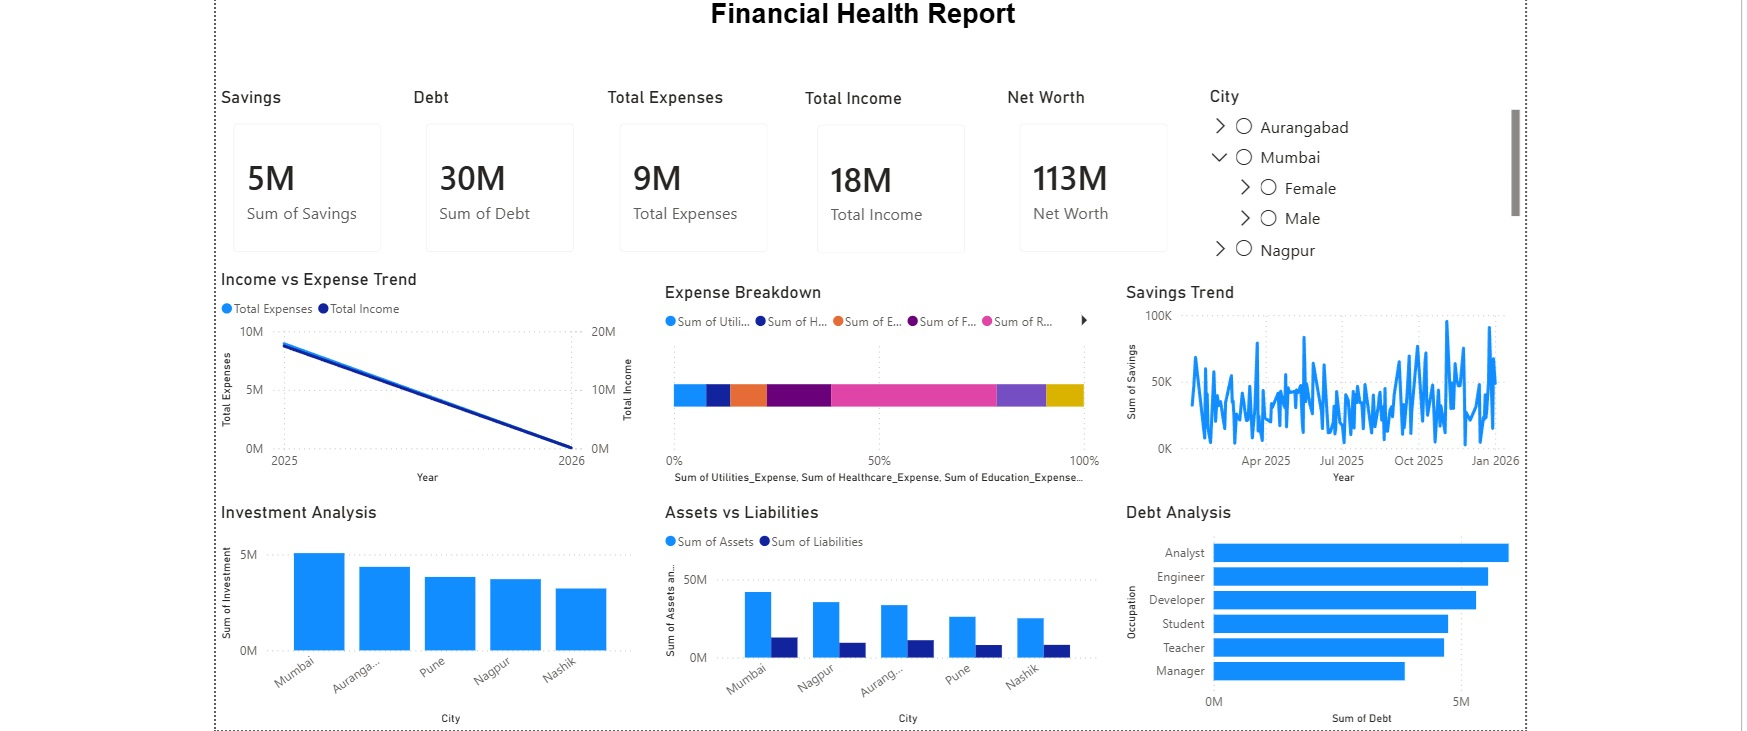

Layout of this report page (visuals, bound fields, positions):
{"tool":"powerbi","page":{"name":"Page 1","canvas":[1280,720],"ordinal":0},"visuals":[{"type":"lineChart","title":"Income vs Expense Trend","fields":{"Category":["Financial_Health_Data.Date.Variation.Date Hierarchy.Year","Financial_Health_Data.Date.Variation.Date Hierarchy.Quarter","Financial_Health_Data.Date.Variation.Date Hierarchy.Month","Financial_Health_Data.Date.Variation.Date Hierarchy.Day"],"Y":["Financial_Health_Data.Total Expenses"],"Y2":["Financial_Health_Data.Total Income"]},"box":[0,269,414.4,215.4],"z":0},{"type":"cardVisual","title":"Total Income ","fields":{"Data":["Financial_Health_Data.Total Income"]},"box":[571.1,91.7,179.8,179.8],"z":1000},{"type":"cardVisual","title":"Total Expenses","fields":{"Data":["Financial_Health_Data.Total Expenses"]},"box":[377.9,90.5,179.8,179.8],"z":2000},{"type":"cardVisual","title":"Net Worth","fields":{"Data":["Financial_Health_Data.Net Worth"]},"box":[769.2,90.5,179.8,179.8],"z":3000},{"type":"cardVisual","title":"Debt","fields":{"Data":["Sum(Financial_Health_Data.Debt)"]},"box":[188.3,90.5,179.8,179.8],"z":4000},{"type":"cardVisual","title":"Savings","fields":{"Data":["Sum(Financial_Health_Data.Savings)"]},"box":[0,90.6,179.8,179.8],"z":5000},{"type":"lineChart","title":" Savings Trend","fields":{"Y":["Sum(Financial_Health_Data.Savings)"],"Category":["Financial_Health_Data.Date.Variation.Date Hierarchy.Year","Financial_Health_Data.Date.Variation.Date Hierarchy.Quarter","Financial_Health_Data.Date.Variation.Date Hierarchy.Month","Financial_Health_Data.Date.Variation.Date Hierarchy.Day"]},"box":[885.1,281.3,395.2,203.1],"z":6000},{"type":"barChart","title":"Debt Analysis","fields":{"Y":["Sum(Financial_Health_Data.Debt)"],"Category":["Financial_Health_Data.Occupation"]},"box":[885.3,496.5,395,223.8],"z":7000},{"type":"columnChart","title":"Investment Analysis","fields":{"Category":["Financial_Health_Data.City"],"Y":["Sum(Financial_Health_Data.Investment)"]},"box":[0,496.7,414.4,223.7],"z":8000},{"type":"clusteredColumnChart","title":"Assets vs Liabilities","fields":{"Category":["Financial_Health_Data.City"],"Y":["Sum(Financial_Health_Data.Assets)","Sum(Financial_Health_Data.Liabilities)"]},"box":[433.6,496.7,435,223.7],"z":9000},{"type":"listSlicer","fields":{"Values":["Financial_Health_Data.City","Financial_Health_Data.Gender","Financial_Health_Data.Date.Variation.Date Hierarchy.Year","Financial_Health_Data.Date.Variation.Date Hierarchy.Month","Financial_Health_Data.Occupation"]},"box":[967.3,89.3,313,177.3],"z":10000},{"type":"hundredPercentStackedBarChart","title":"Expense Breakdown","fields":{"Y":["Sum(Financial_Health_Data.Utilities_Expense)","Sum(Financial_Health_Data.Healthcare_Expense)","Sum(Financial_Health_Data.Education_Expense)","Sum(Financial_Health_Data.Food_Expense)","Sum(Financial_Health_Data.Rent_Expense)","Sum(Financial_Health_Data.Shopping_Expense)","Sum(Financial_Health_Data.Travel_Expense)"]},"box":[433.6,281.3,435,203.1],"z":11000},{"type":"textbox","box":[344.4,0,487.1,86.4],"z":12000}]}

Visuals, with their boxes on the page's 1280x720 design canvas (x1, y1, x2, y2). These are canvas units, not pixel positions in the 1747x731 screenshot, which may show the page scaled, cropped or inside an application window:
"Income vs Expense Trend" lineChart: locate(0, 269, 414, 484)
"Total Income " cardVisual: locate(571, 92, 751, 272)
"Total Expenses" cardVisual: locate(378, 90, 558, 270)
"Net Worth" cardVisual: locate(769, 90, 949, 270)
"Debt" cardVisual: locate(188, 90, 368, 270)
"Savings" cardVisual: locate(0, 91, 180, 270)
" Savings Trend" lineChart: locate(885, 281, 1280, 484)
"Debt Analysis" barChart: locate(885, 496, 1280, 720)
"Investment Analysis" columnChart: locate(0, 497, 414, 720)
"Assets vs Liabilities" clusteredColumnChart: locate(434, 497, 869, 720)
listSlicer - Financial_Health_Data.City x Financial_Health_Data.Gender: locate(967, 89, 1280, 267)
"Expense Breakdown" hundredPercentStackedBarChart: locate(434, 281, 869, 484)
textbox: locate(344, 0, 832, 86)
